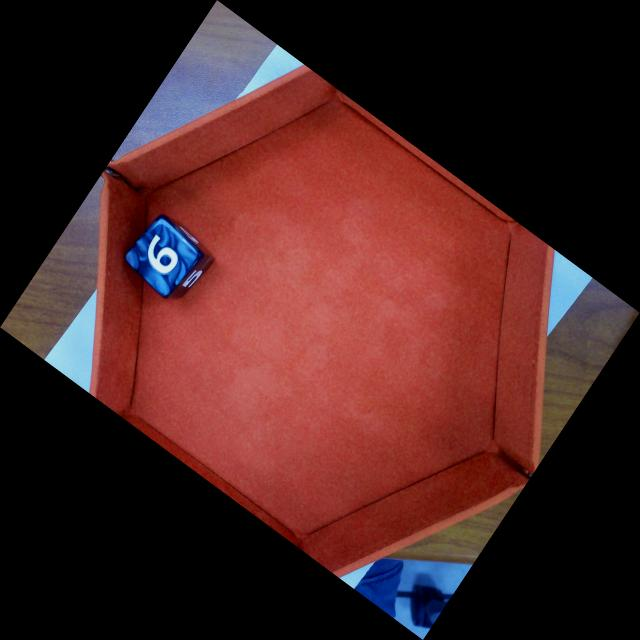dice: (123, 214, 205, 299)
